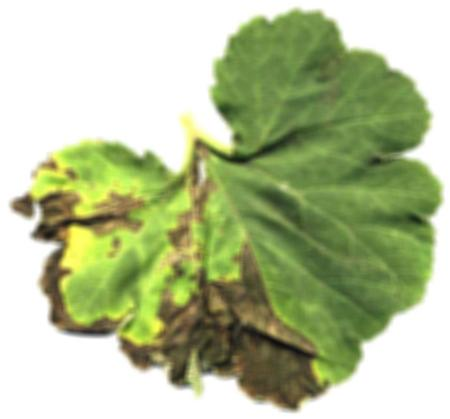Tomato leaf bacterial spot: (20, 139, 325, 412)
